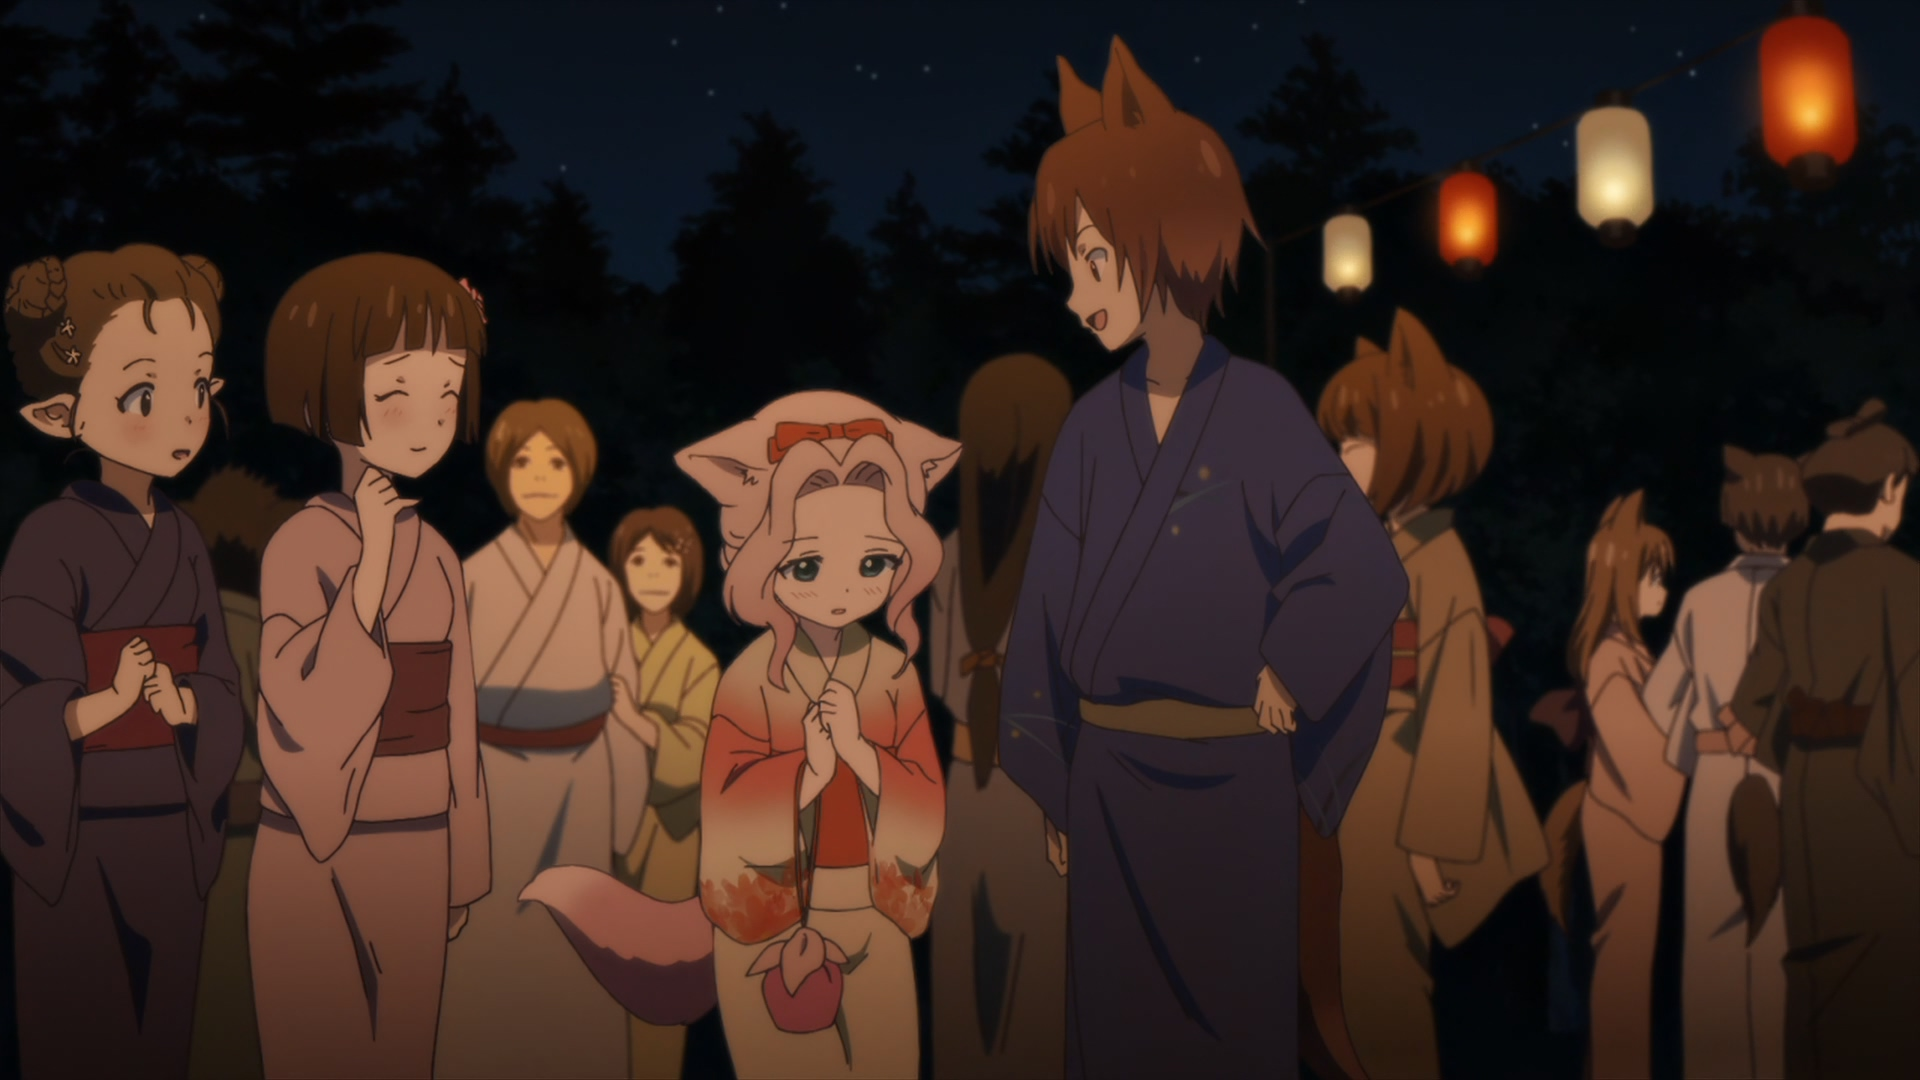其他: (248, 253, 497, 1080), (1, 240, 247, 1080), (1302, 309, 1553, 1080), (436, 400, 649, 1080), (1733, 404, 1920, 1080), (1639, 444, 1813, 1080), (928, 352, 1068, 1080), (1538, 488, 1689, 1080), (607, 508, 720, 1080)
枣: (996, 32, 1412, 1080)
莲: (516, 389, 964, 1080)
